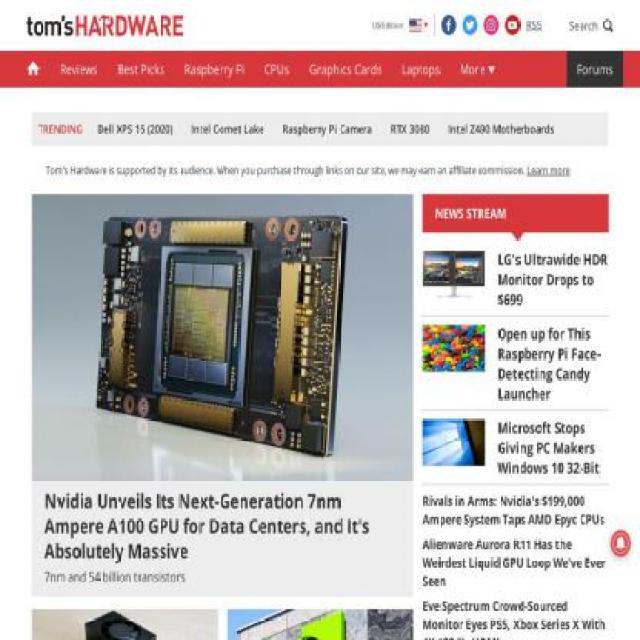button: (32, 194, 413, 597), (422, 316, 608, 410), (422, 242, 608, 316), (422, 410, 608, 484), (422, 535, 608, 597), (422, 484, 608, 536), (422, 597, 610, 638), (226, 608, 414, 640), (32, 608, 219, 640), (439, 112, 564, 146), (273, 112, 381, 146), (299, 51, 392, 88), (89, 112, 182, 146), (182, 112, 273, 146), (174, 51, 254, 88), (107, 51, 175, 88), (49, 51, 108, 88), (392, 51, 450, 88), (567, 51, 624, 88), (382, 112, 438, 146), (255, 51, 299, 88), (526, 15, 542, 34)
